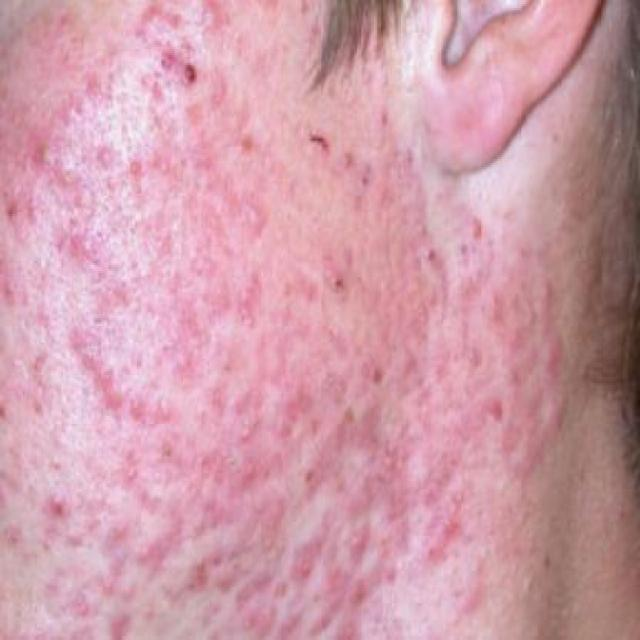blackheads: (317, 259, 357, 304), (414, 240, 451, 284), (369, 100, 402, 138), (351, 163, 383, 200), (1, 522, 34, 554), (2, 194, 18, 232)
papules: (71, 294, 118, 385), (526, 334, 580, 383), (136, 381, 178, 444), (112, 373, 151, 440), (65, 230, 112, 284), (114, 530, 178, 567), (535, 388, 580, 440), (277, 361, 321, 412), (99, 508, 143, 550), (294, 516, 334, 558), (263, 406, 303, 442), (232, 457, 270, 489), (194, 479, 218, 512)
